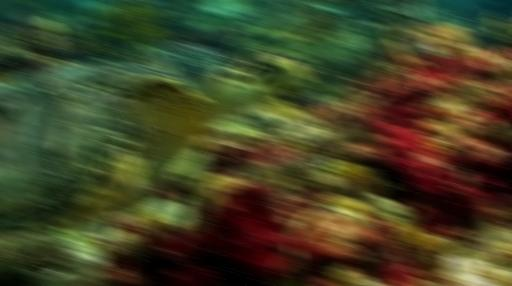Fish: (0, 53, 310, 236)
